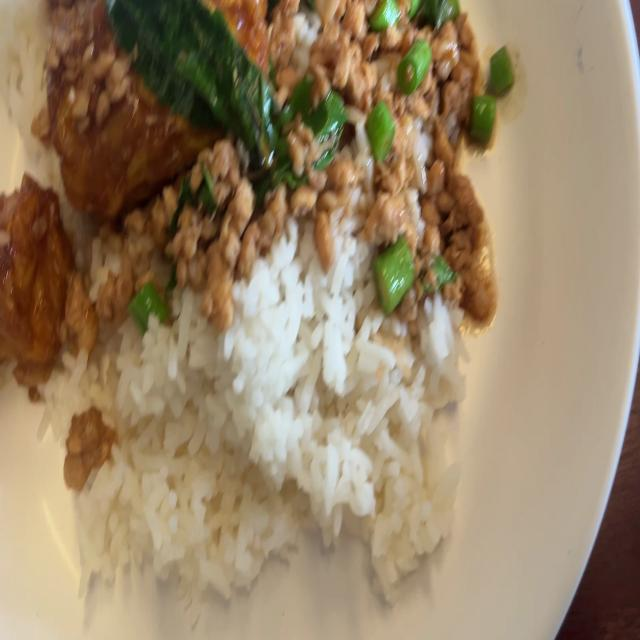01rice: (95, 310, 472, 568)
fried_tofo: (43, 0, 266, 178), (0, 172, 68, 387)
minced_pork: (281, 0, 501, 315), (96, 165, 282, 312)
stir_fried_basil: (0, 0, 495, 568)
